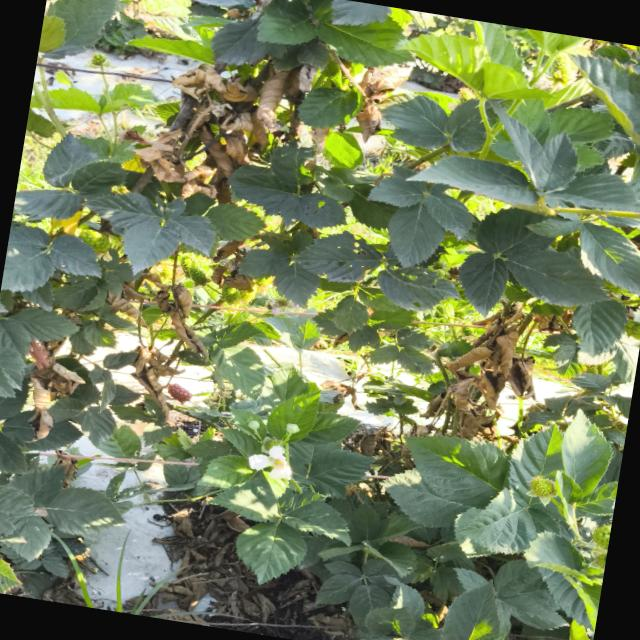boton: (286, 424, 300, 434), (248, 421, 259, 432)
flor: (248, 446, 292, 479)
